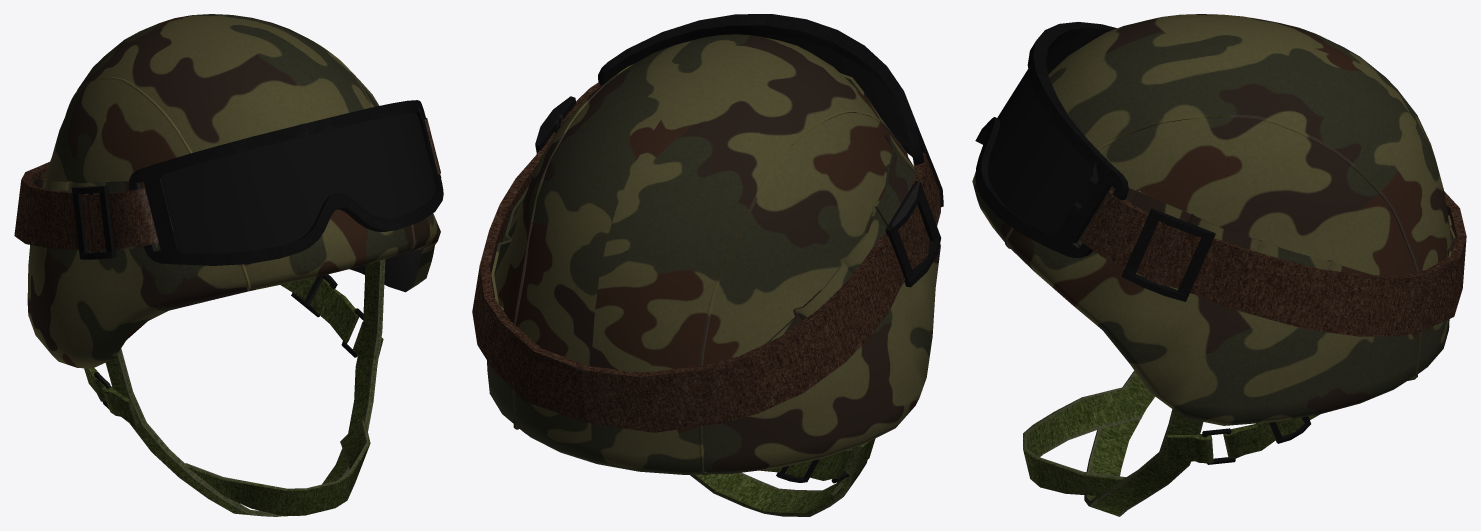
File: helm_wz2005.fbx
3 views of the same model, side by side, from view 1: azimuth 30°, elevation 25°; view 2: azimuth 150°, elevation 25°; view 3: azimuth 270°, elevation 25° (orthographic). The views are drawn at different scales.
Visible parts, largest first — view 1: Sphere.001, Sphere; view 2: Sphere.001, Sphere; view 3: Sphere.001, Sphere.
Boxes of the visible parts, <box> form: Sphere.001: <box>27,14,440,368</box>; Sphere: <box>14,100,443,516</box>; Sphere.001: <box>487,34,940,475</box>; Sphere: <box>472,14,943,516</box>; Sphere.001: <box>972,14,1455,425</box>; Sphere: <box>975,22,1466,516</box>.
Bounding box in the file's own units: 24.09 × 29.13 × 27.53.
